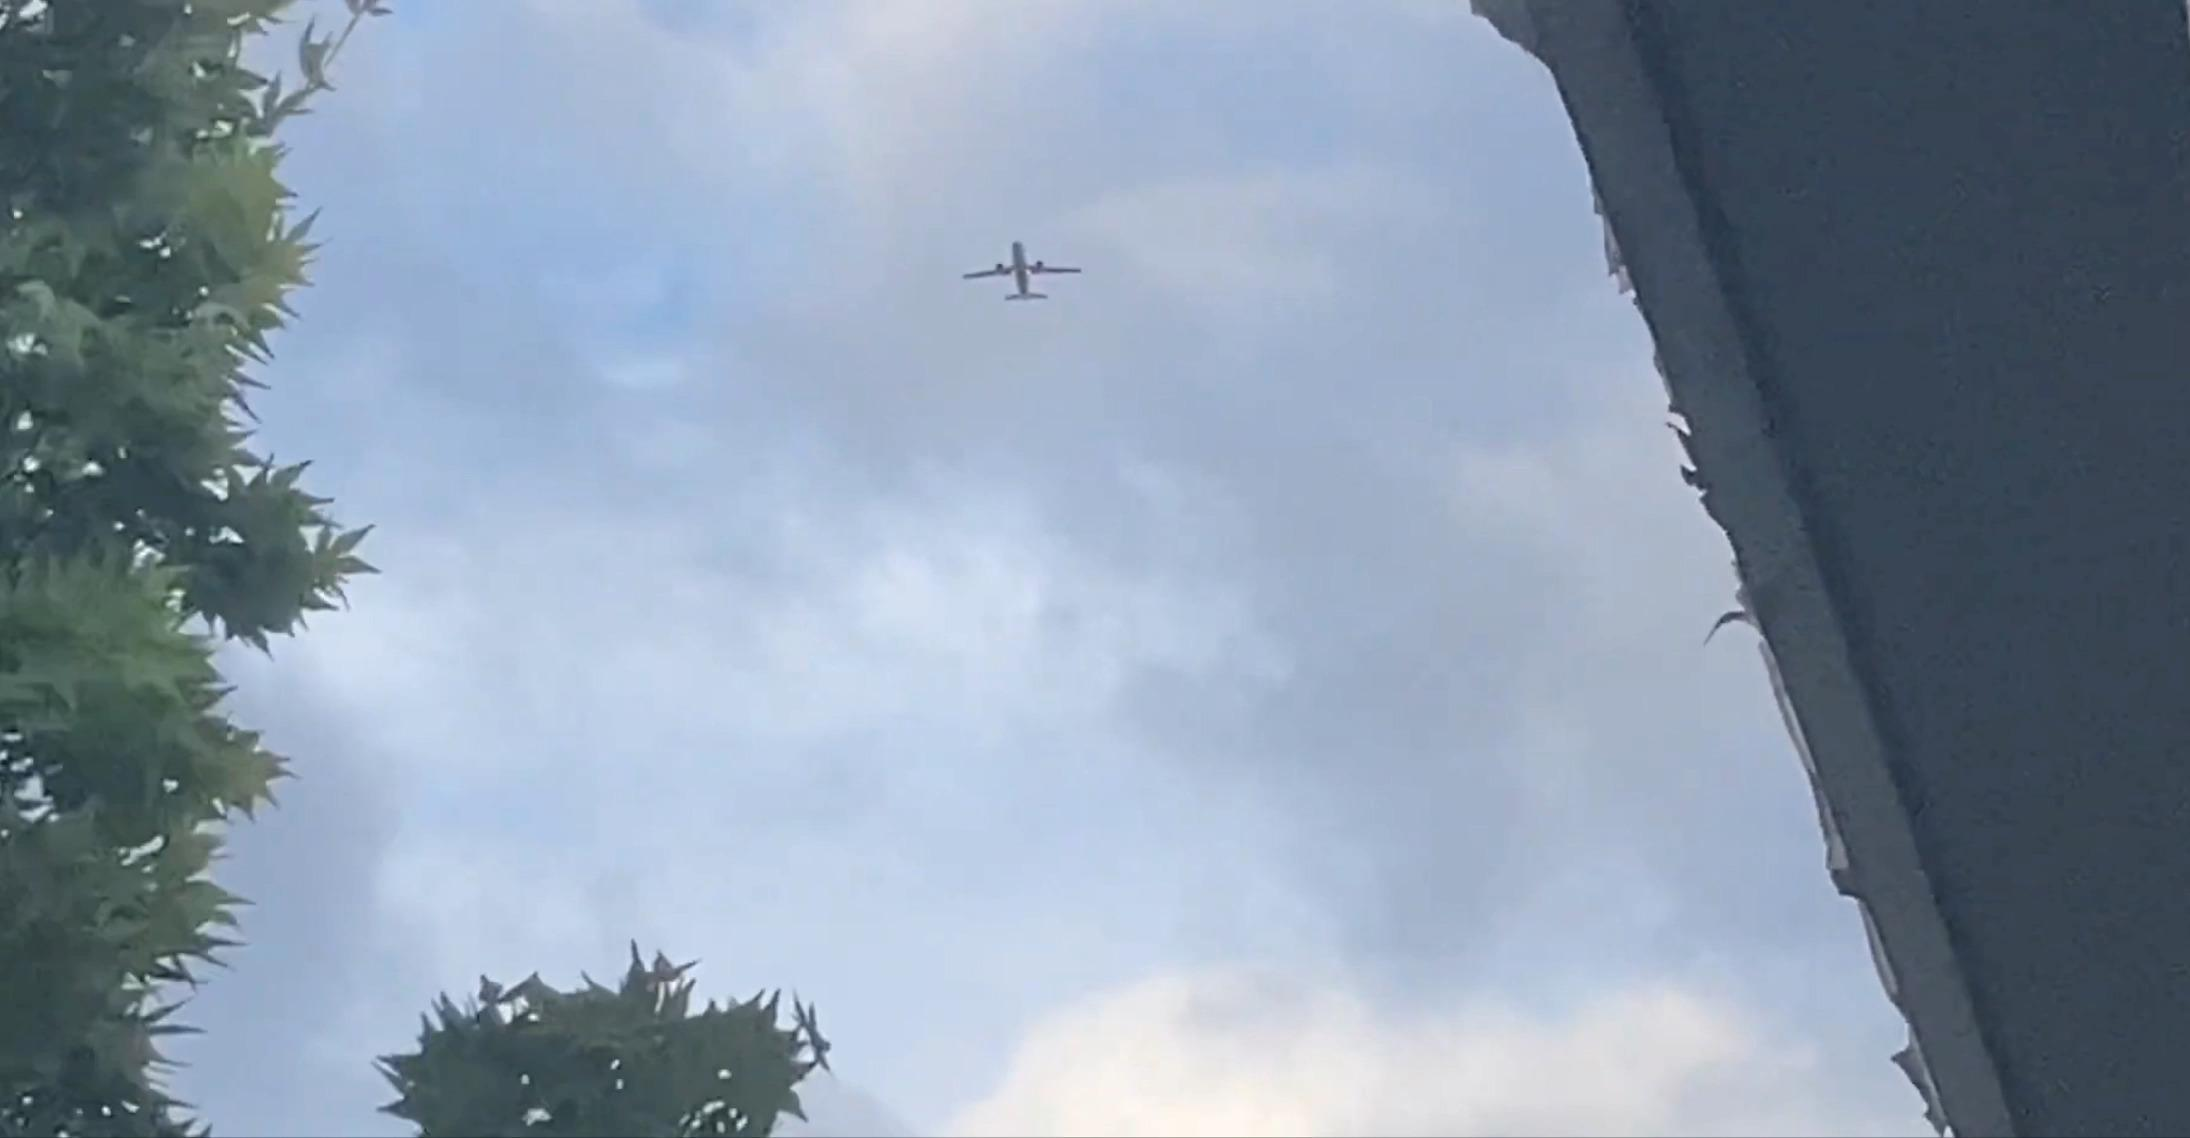Plane: (926, 224, 1107, 319)
